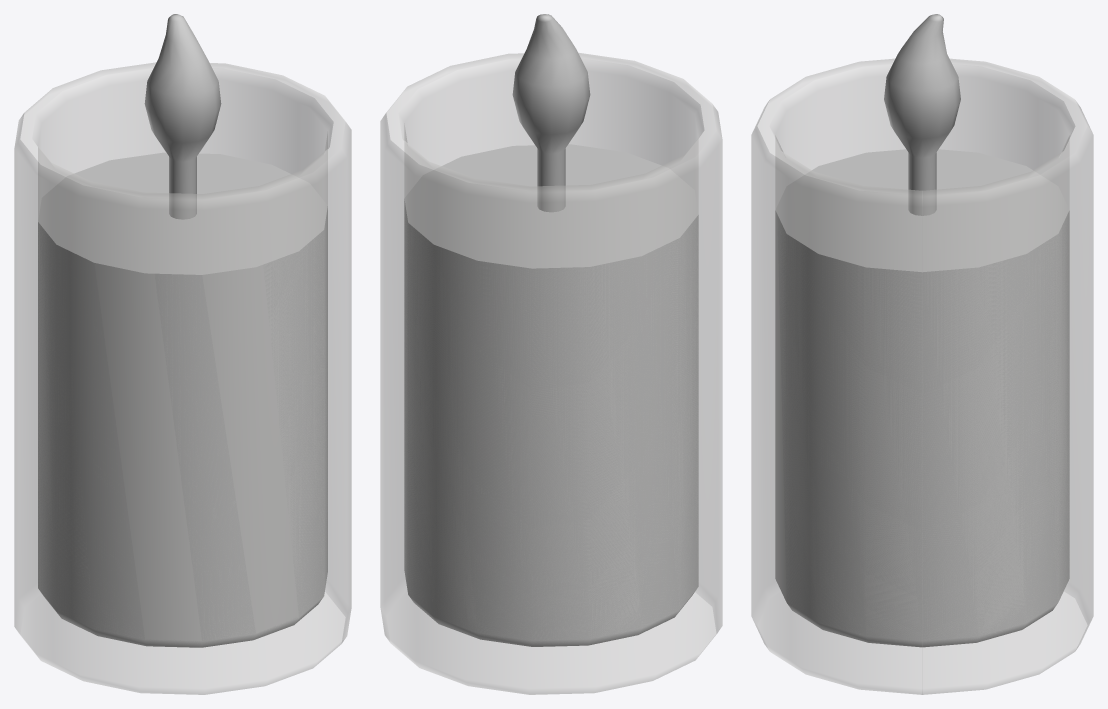
The model's file is Candle_5.fbx.
3 views of the same model, side by side, from view 1: azimuth 30°, elevation 25°; view 2: azimuth 150°, elevation 25°; view 3: azimuth 270°, elevation 25° (orthographic).
Parts seen in each view (by area): view 1: Candle_5; view 2: Candle_5; view 3: Candle_5.
Boxes of the visible parts, x1,y1,x2,y2 form: Candle_5: (14, 14, 351, 694); Candle_5: (380, 14, 722, 694); Candle_5: (751, 14, 1093, 694).
Size of the model in its own units: 11.36 by 22.31 by 11.36.
